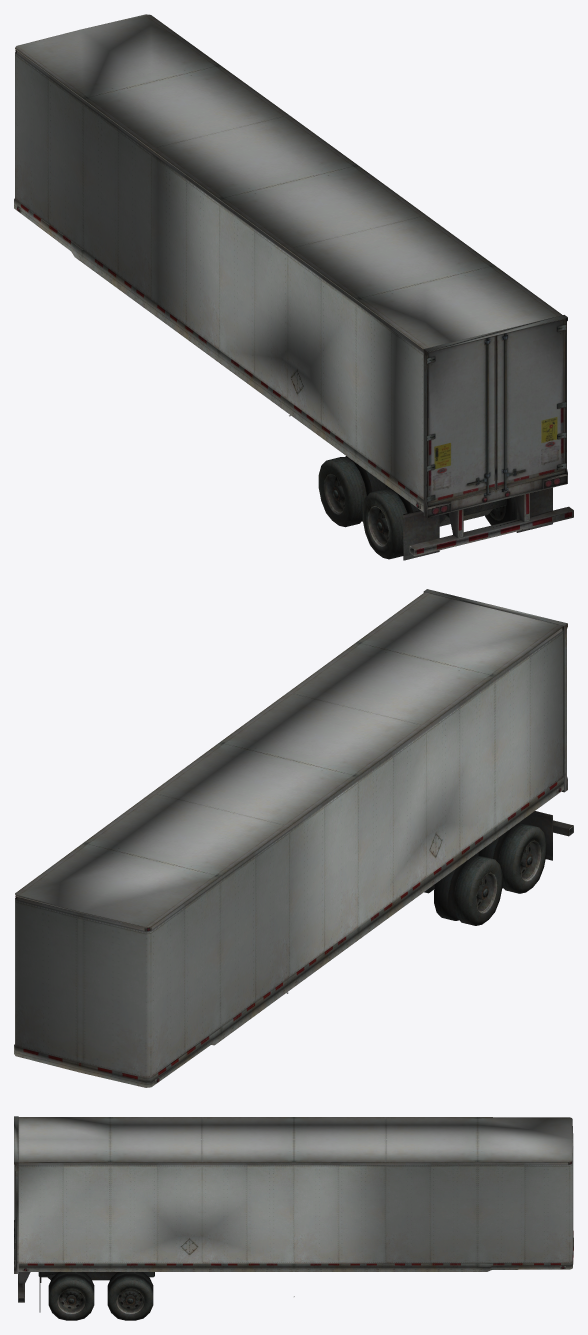
Rendered from Semi_trailer.obj.
3 renders of one model, top to bottom at view 1: azimuth 30°, elevation 25°; view 2: azimuth 150°, elevation 25°; view 3: azimuth 270°, elevation 25°, orthographic. The views are drawn at different scales.
Parts seen in each view (by area): view 1: (null); view 2: (null); view 3: (null).
Boxes of the visible parts, box(x1,y1,x2,y2) form: (null): box(14, 14, 573, 560); (null): box(14, 589, 573, 1087); (null): box(14, 1116, 573, 1320).
Bounding box in the file's own units: 118 × 166 × 535.
Materials: 1 (1 with a texture image).
